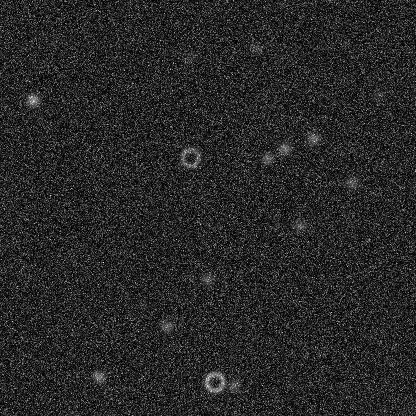Ring: (202, 369, 226, 393), (178, 145, 202, 169)
Spot: (305, 130, 321, 146), (199, 270, 215, 286), (343, 175, 359, 191), (225, 377, 241, 393), (158, 318, 174, 334), (180, 49, 196, 65), (370, 86, 386, 102), (90, 368, 106, 384), (25, 92, 41, 108), (276, 140, 292, 156), (291, 217, 307, 233), (259, 150, 275, 166), (247, 40, 263, 56)
